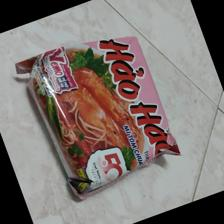Haohao: (16, 31, 183, 203)
